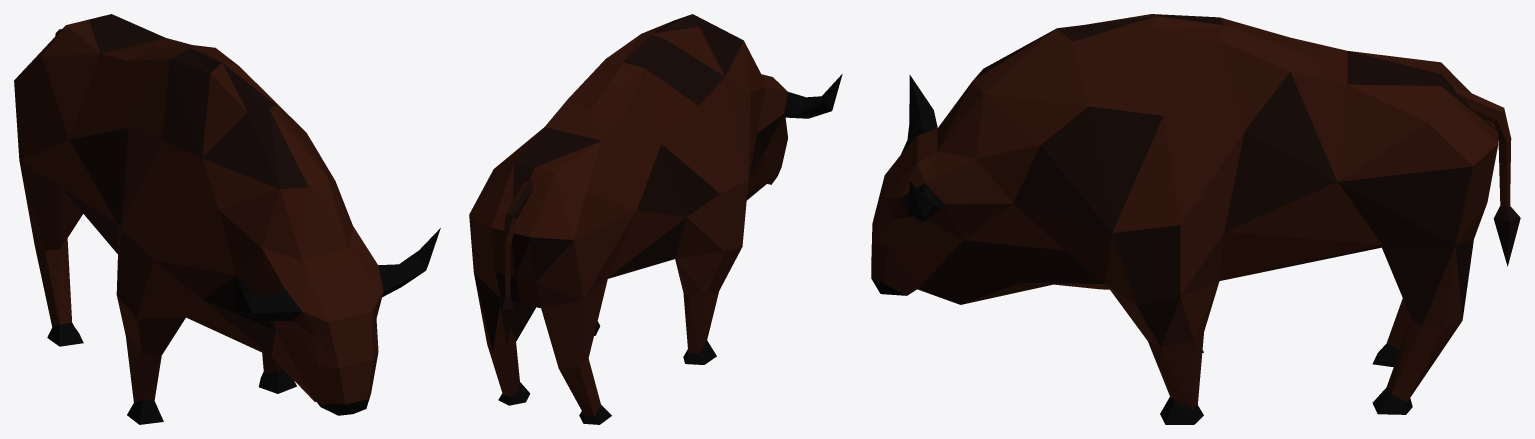
The model's file is Animal_Bison_M1.fbx.
3 renders of one model, left to right at view 1: azimuth 30°, elevation 25°; view 2: azimuth 150°, elevation 25°; view 3: azimuth 270°, elevation 25°, orthographic. The views are drawn at different scales.
Visible parts, largest first — view 1: Animal_Bison_M1; view 2: Animal_Bison_M1; view 3: Animal_Bison_M1.
Part boxes in pixels (left/top/right/bottom): Animal_Bison_M1: left=14, top=14, right=440, bottom=424; Animal_Bison_M1: left=469, top=14, right=842, bottom=424; Animal_Bison_M1: left=871, top=14, right=1520, bottom=424.
Bounding box in the file's own units: 187 × 303 × 483.
